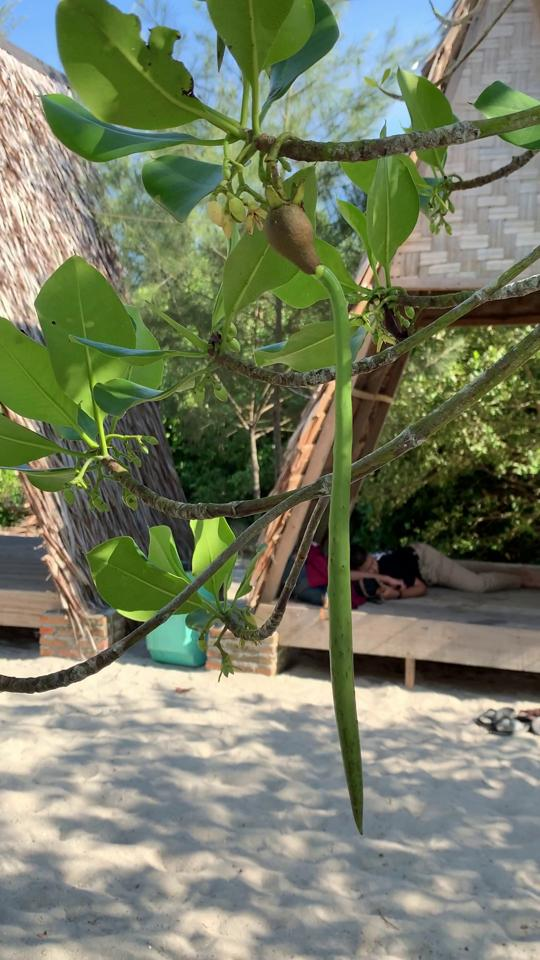setengah matang: (242, 175, 375, 845)
